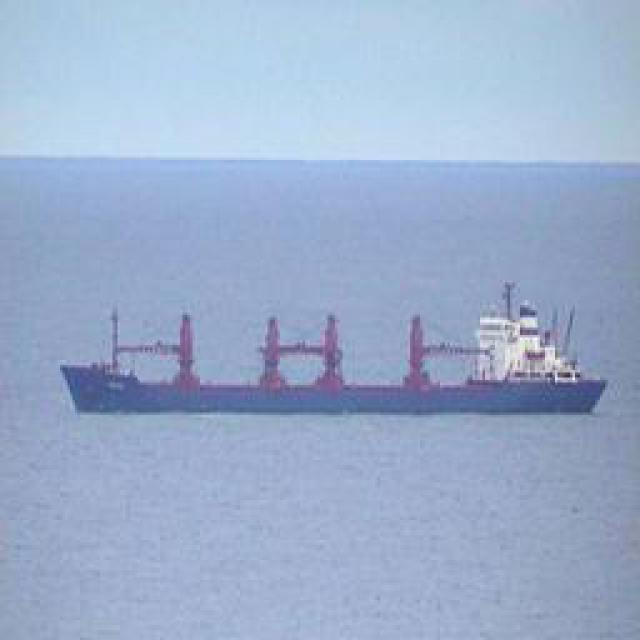Ship: (28, 283, 603, 421)
